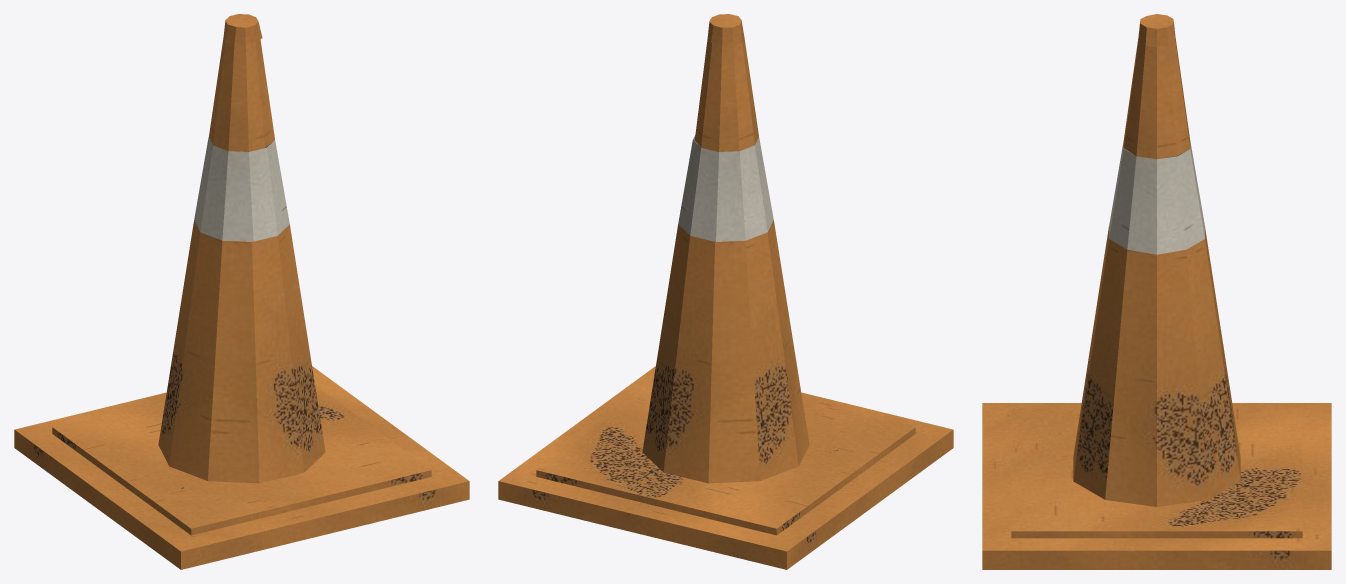
The picture shows the model from 3 angles, left to right: view 1: azimuth 30°, elevation 25°; view 2: azimuth 150°, elevation 25°; view 3: azimuth 270°, elevation 25°; orthographic projection. The views are drawn at different scales.
Visible parts, largest first — view 1: Variant_cone_2; view 2: Variant_cone_2; view 3: Variant_cone_2.
Boxes of the visible parts, x1,y1,x2,y2 form: Variant_cone_2: (14, 14, 469, 569); Variant_cone_2: (498, 14, 953, 569); Variant_cone_2: (982, 14, 1331, 569).
Size of the model in its own units: 0.36 by 0.54 by 0.36.
2 materials, 2 textured.
